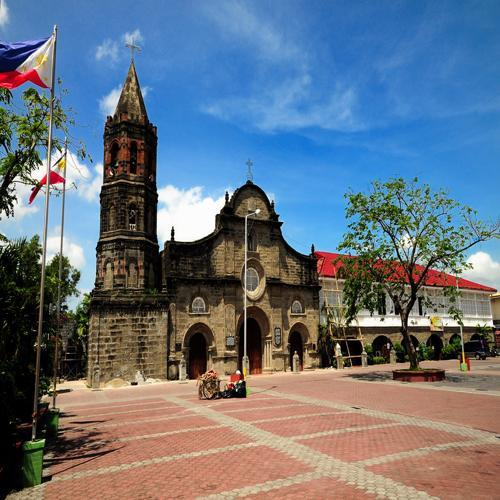Barasoain Church: (84, 39, 324, 382)
